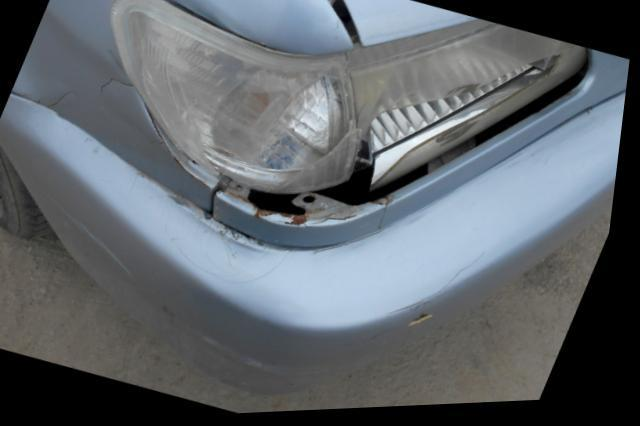lamp broken: (109, 0, 593, 209)
